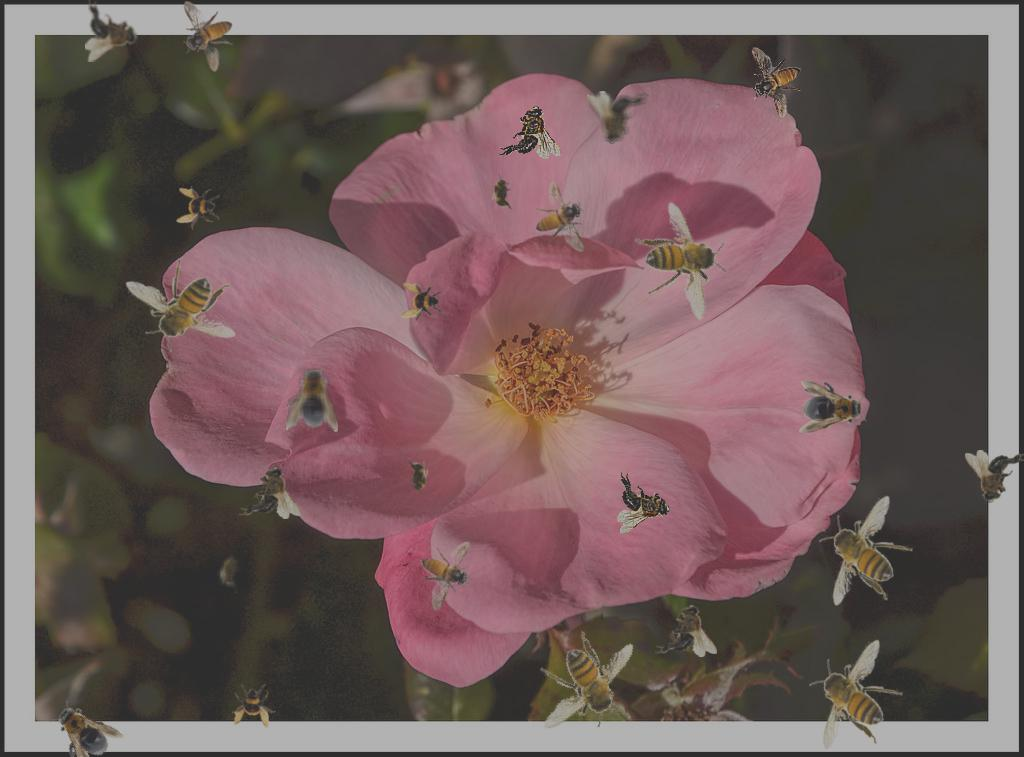Bee: (610, 191, 755, 337), (520, 616, 649, 754), (819, 495, 913, 606), (809, 639, 903, 750), (125, 258, 236, 352), (403, 528, 491, 613), (39, 690, 125, 757), (183, 1, 233, 72), (751, 47, 801, 118), (535, 181, 585, 252), (286, 364, 338, 432), (799, 381, 867, 433), (85, 0, 138, 62), (239, 466, 301, 519), (499, 106, 561, 159), (587, 91, 649, 144), (655, 604, 717, 657), (617, 472, 670, 534), (965, 450, 1024, 503), (176, 186, 220, 230), (400, 281, 444, 325), (232, 684, 276, 728), (215, 549, 245, 593), (491, 173, 513, 213), (407, 457, 429, 497)
